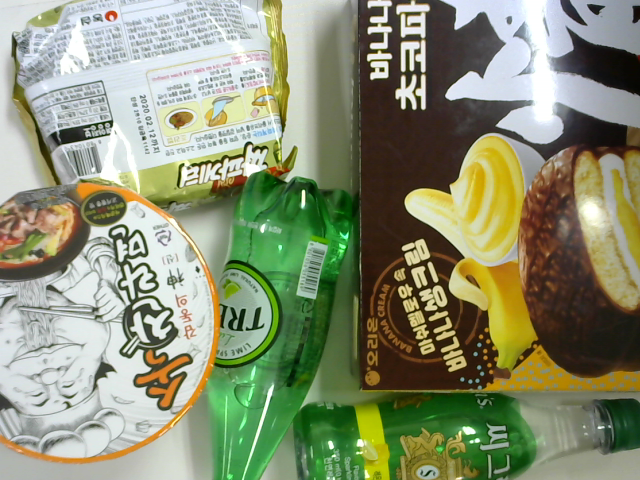Choco_Pie_Banana: (349, 2, 640, 392)
Hejangchan: (3, 190, 213, 460)
Olive_Chapaghetti: (13, 2, 297, 214)
Seagram_Lemon_Carbonated_Water: (293, 390, 635, 480)
Treviraim_500ml: (201, 176, 347, 480)
